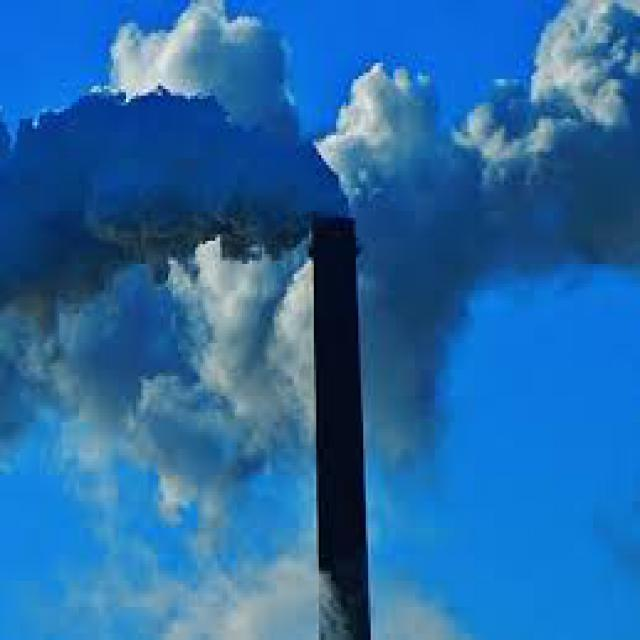smoke: (50, 297, 316, 637), (323, 3, 638, 221)
